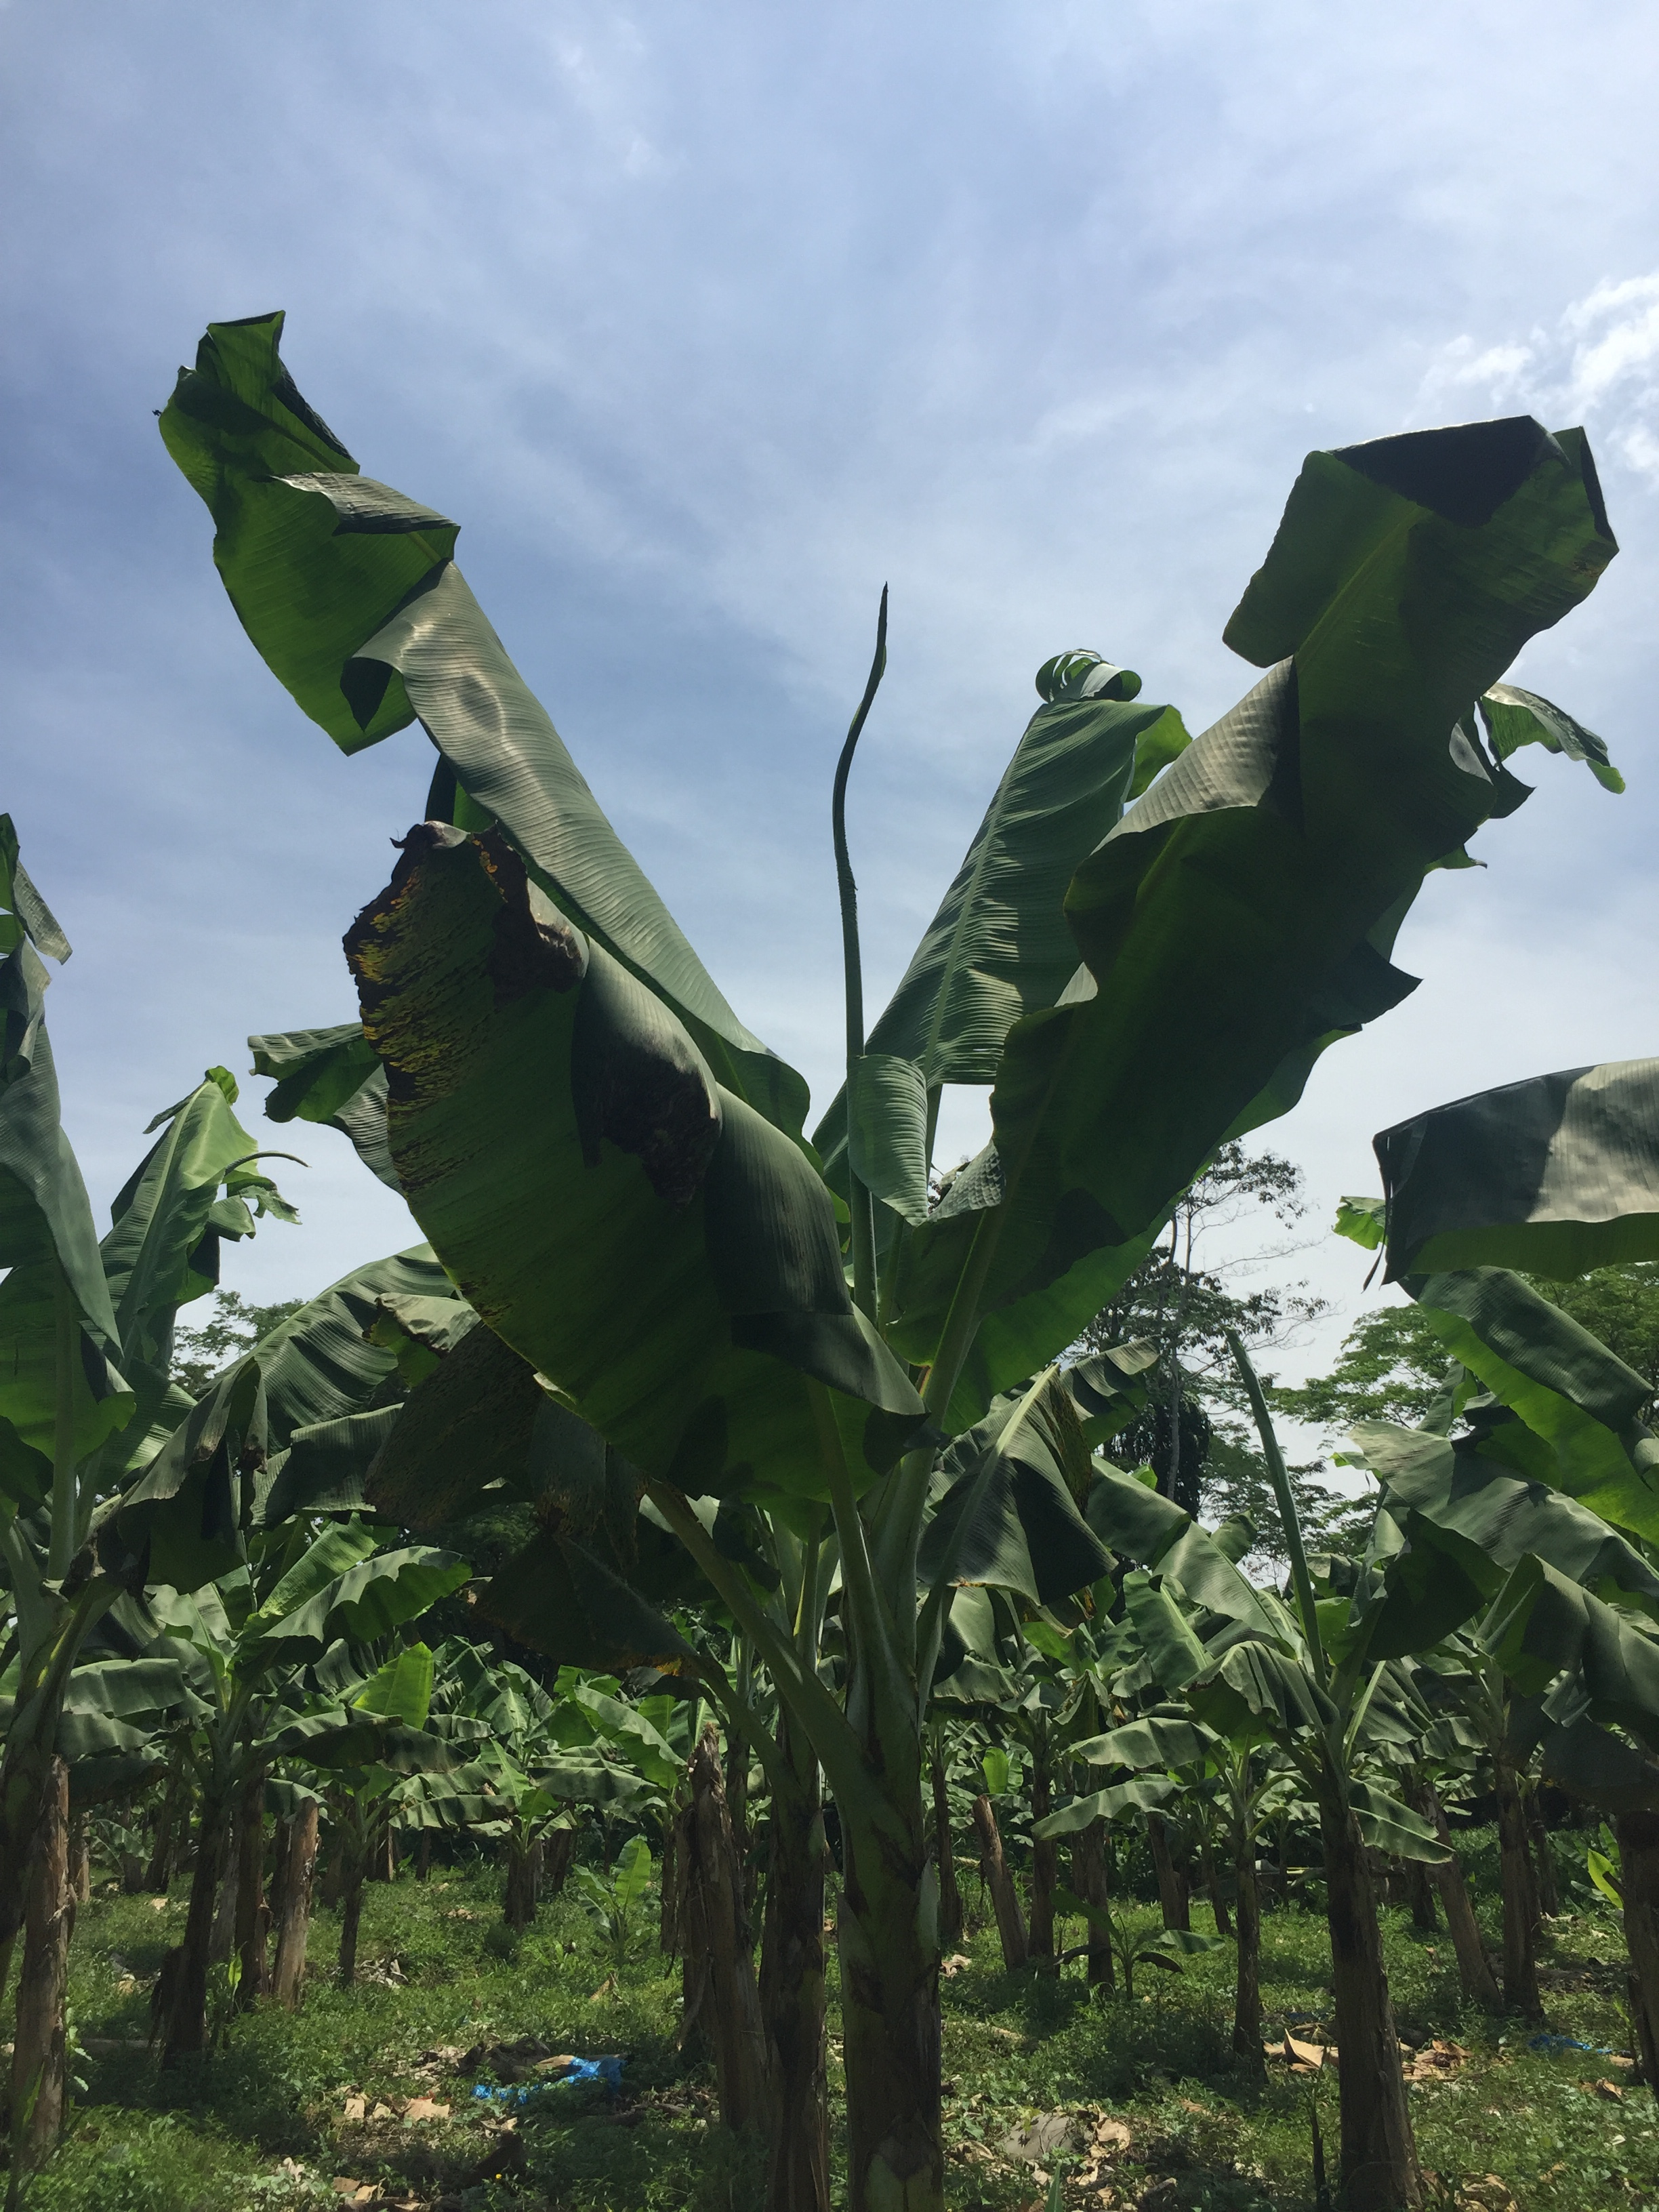candleleafs: (831, 582, 887, 1318), (1223, 1327, 1328, 1693)
